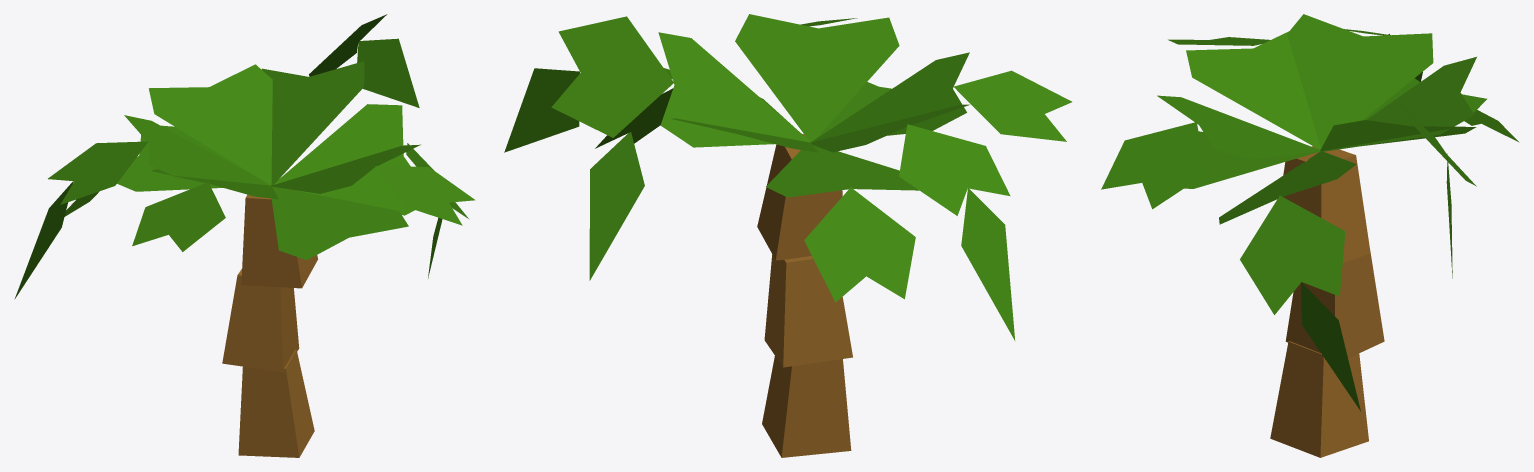
Rendered from Palms_v03.fbx.
The picture shows the model from 3 angles, left to right: view 1: azimuth 30°, elevation 25°; view 2: azimuth 150°, elevation 25°; view 3: azimuth 270°, elevation 25°; orthographic projection. The views are drawn at different scales.
Parts seen in each view (by area): view 1: Plane_1_4, Plane_2_6, Plane_7, Cylinder_4, Plane_8, Cylinder_5, Cylinder_6, Plane_2_4, Plane_5, Plane_2_3, Plane_2_5, Plane_1_3 (+5 smaller); view 2: Plane_3, Plane_2_7, Plane_2_6, Plane_2_2, Cylinder_5, Cylinder_4, Plane_2_3, Plane_4, Plane_2_4, Plane_1, Plane_6, Cylinder_6 (+6 smaller); view 3: Plane_5, Cylinder_4, Plane_2, Plane_4, Plane_2_5, Cylinder_5, Plane_1_4, Cylinder_6, Plane_3, Plane_7, Plane_1, Plane_2_6 (+5 smaller).
Boxes of the visible parts, bbox=[...] form: Plane_1_4: bbox=[148, 64, 272, 185]; Plane_2_6: bbox=[261, 61, 364, 185]; Plane_7: bbox=[274, 104, 414, 215]; Cylinder_4: bbox=[238, 349, 314, 457]; Plane_8: bbox=[271, 186, 408, 259]; Cylinder_5: bbox=[222, 269, 299, 372]; Cylinder_6: bbox=[241, 189, 317, 288]; Plane_2_4: bbox=[132, 182, 225, 251]; Plane_5: bbox=[124, 115, 270, 185]; Plane_2_3: bbox=[48, 141, 148, 204]; Plane_2_5: bbox=[375, 166, 475, 225]; Plane_1_3: bbox=[357, 38, 419, 107]; Plane_3: bbox=[735, 14, 899, 142]; Plane_2_7: bbox=[551, 16, 673, 137]; Plane_2_6: bbox=[658, 32, 810, 147]; Plane_2_2: bbox=[804, 187, 915, 302]; Cylinder_5: bbox=[764, 254, 852, 367]; Cylinder_4: bbox=[762, 356, 851, 457]; Plane_2_3: bbox=[899, 124, 1010, 215]; Plane_4: bbox=[811, 52, 969, 142]; Plane_2_4: bbox=[954, 70, 1071, 141]; Plane_1: bbox=[589, 132, 644, 280]; Plane_6: bbox=[766, 145, 919, 197]; Cylinder_6: bbox=[757, 134, 842, 260]; Plane_5: bbox=[1287, 14, 1433, 148]; Cylinder_4: bbox=[1270, 341, 1368, 457]; Plane_2: bbox=[1240, 195, 1345, 314]; Plane_4: bbox=[1186, 31, 1320, 149]; Plane_2_5: bbox=[1101, 122, 1205, 209]; Cylinder_5: bbox=[1285, 253, 1384, 359]; Plane_1_4: bbox=[1322, 57, 1476, 151]; Cylinder_6: bbox=[1283, 146, 1370, 262]; Plane_3: bbox=[1157, 95, 1320, 159]; Plane_7: bbox=[1219, 151, 1356, 224]; Plane_1: bbox=[1301, 282, 1360, 411]; Plane_2_6: bbox=[1320, 120, 1476, 150].
Size of the model in its own units: 391 by 321 by 300.
